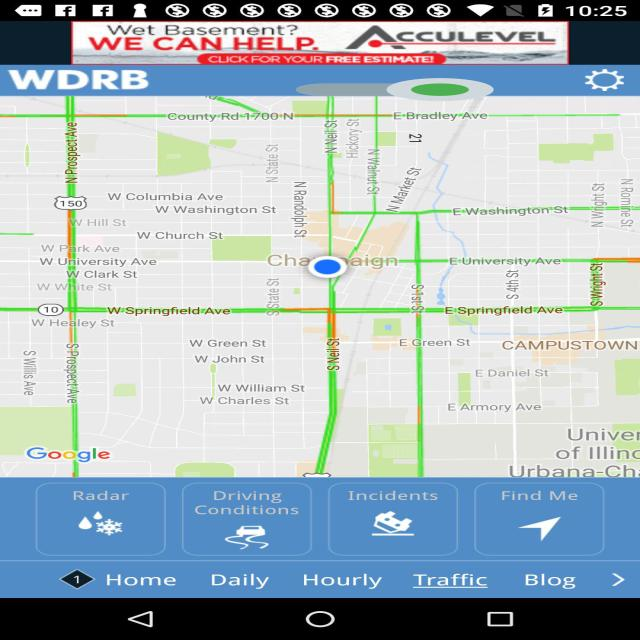social proof: (296, 68, 494, 111)
